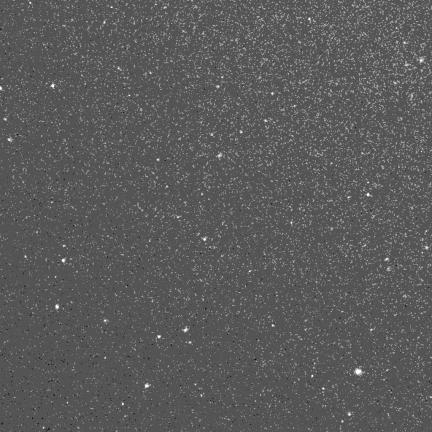blob: (355, 368, 363, 375), (183, 327, 189, 333), (145, 383, 150, 388), (157, 335, 162, 339), (62, 259, 66, 263), (56, 305, 59, 310), (240, 130, 243, 134), (348, 412, 351, 415)
